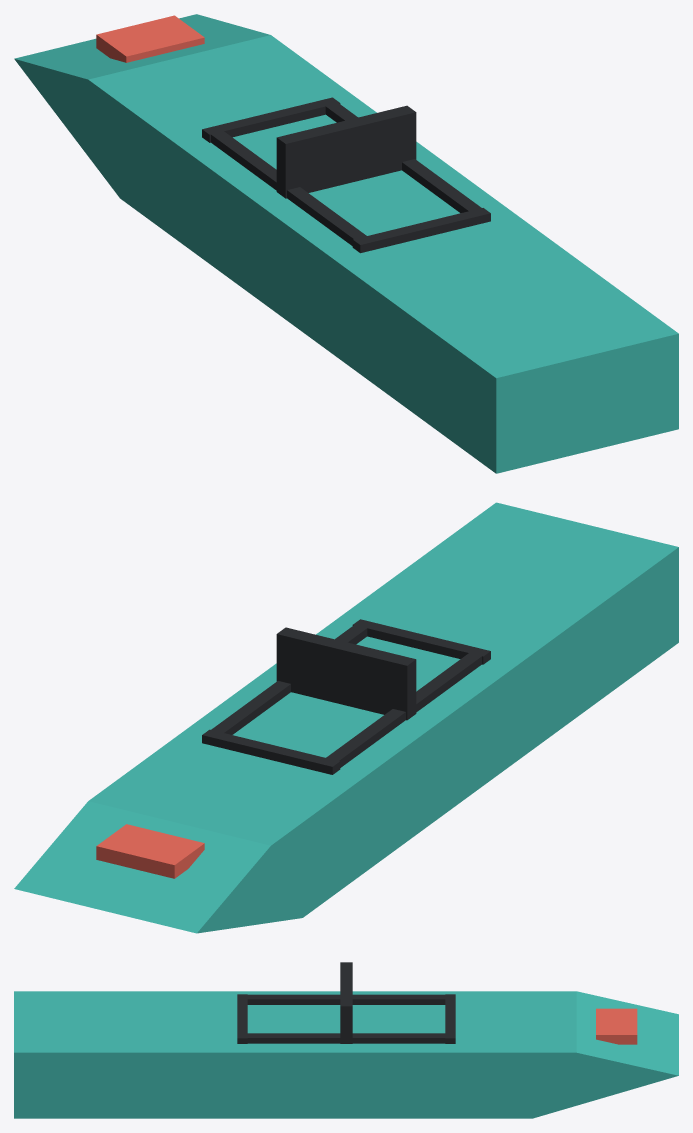
The model's file is marine.kayak.glb.
3 views of the same model, one above another, from view 1: azimuth 30°, elevation 25°; view 2: azimuth 150°, elevation 25°; view 3: azimuth 270°, elevation 25° (orthographic). The views are drawn at different scales.
Visible parts, largest first — view 1: marine.kayak; view 2: marine.kayak; view 3: marine.kayak.
Part boxes in pixels (bbox=[...]): marine.kayak: bbox=[14, 14, 678, 473]; marine.kayak: bbox=[14, 502, 678, 933]; marine.kayak: bbox=[14, 962, 678, 1118].
Bounding box in the file's own units: 0.7 × 0.55 × 3.2.
